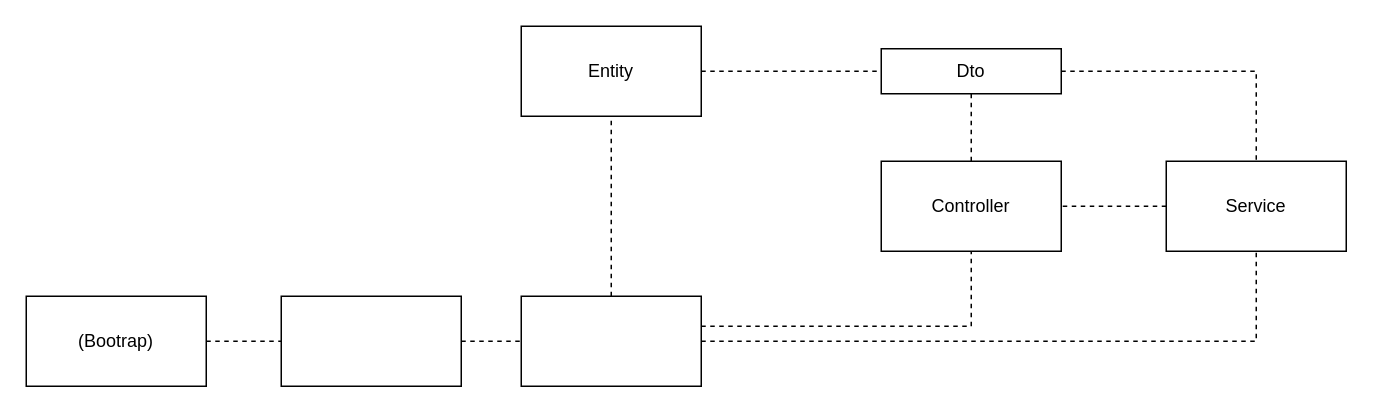
Some shapes in this 1373 by 413 pixel diagram are drawn without their labels. Here are the shapes that lost their labels. From the top down, the box of each, then its label:
(280, 295, 461, 386): (Module)
(520, 295, 701, 386): (Feature)
